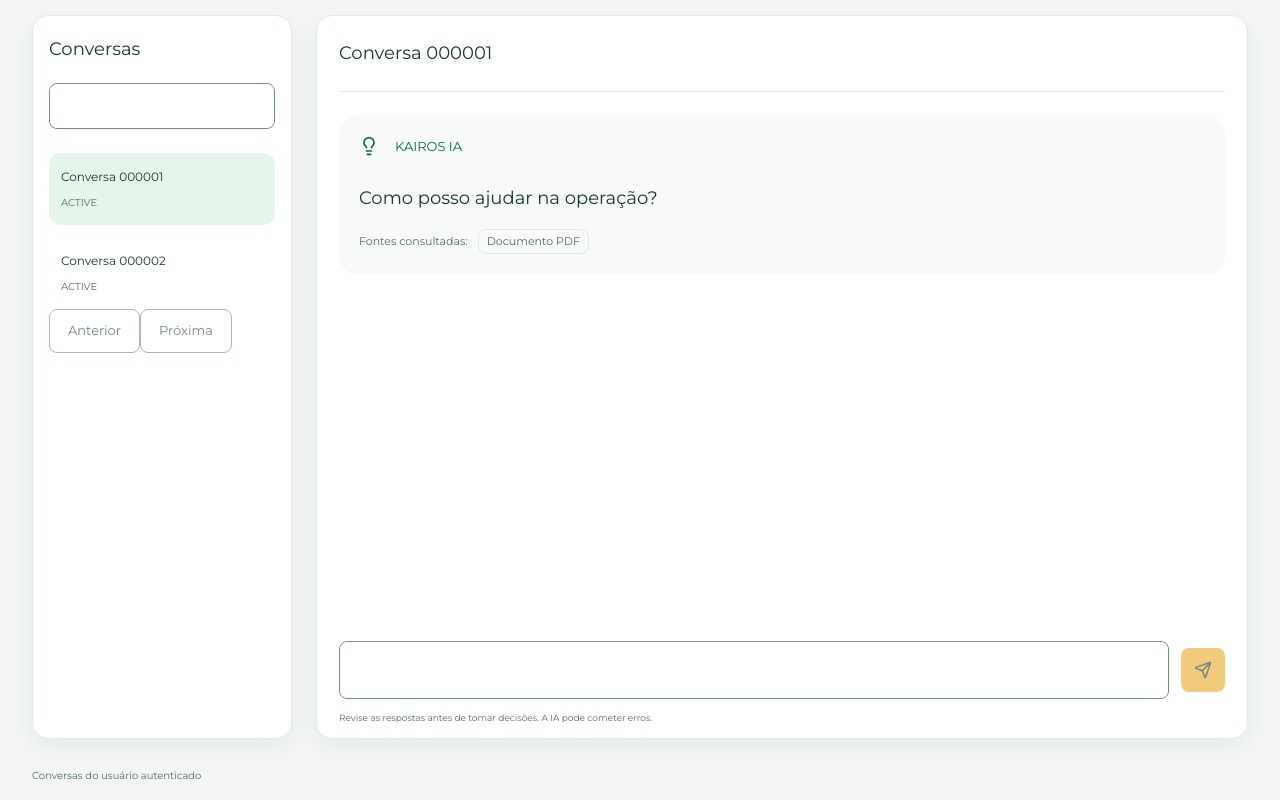
Test case: keeps sources attached to their own persisted reply when switching conversations
(page scrolled)
Check: the element named "Mensagens da conversa" is shown, box [339,116,1225,282]
Check: the list item "Documento PDF" is shown, box [478,229,589,254]
Type "Consulte o estoque" into the field named "Mensagem para KAIROS IA" at (754, 670), box [340,642,1168,698]
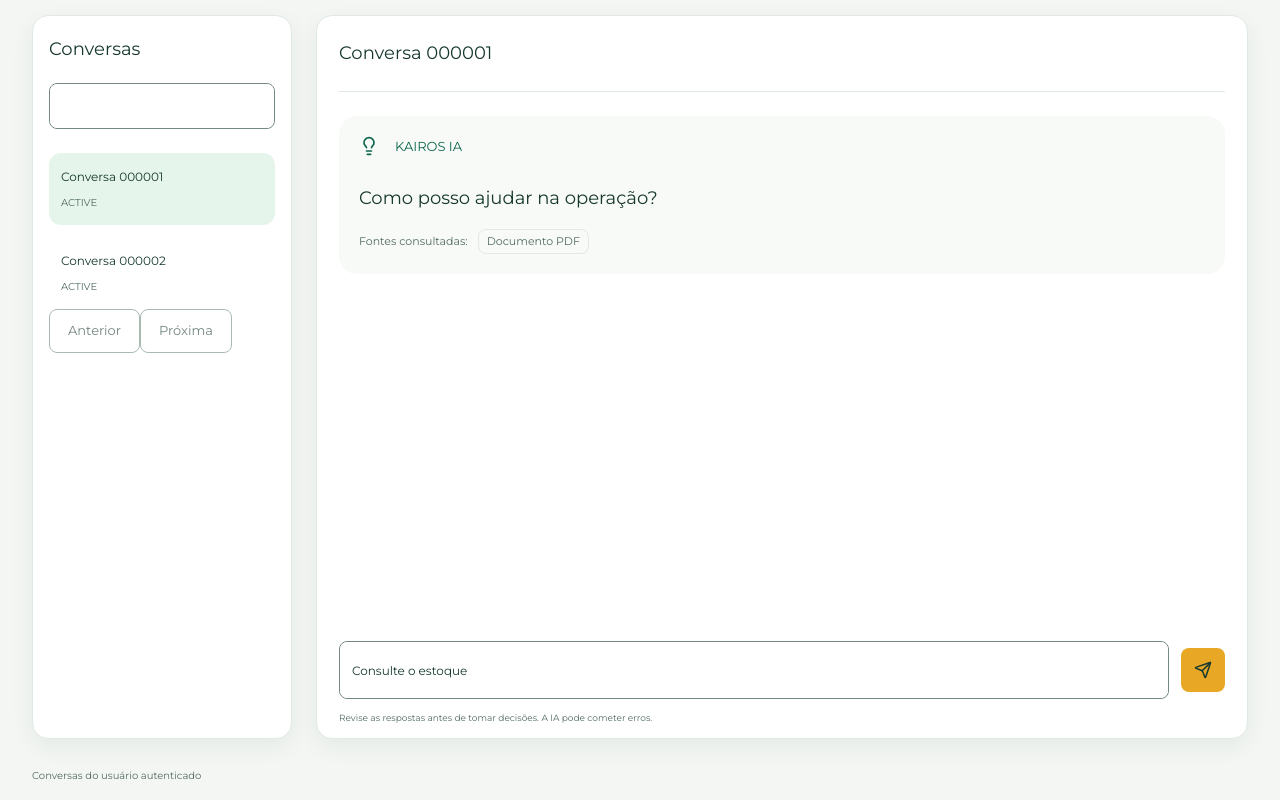
Click the button named "Enviar mensagem" at (1203, 670), box [1181,648,1225,692]
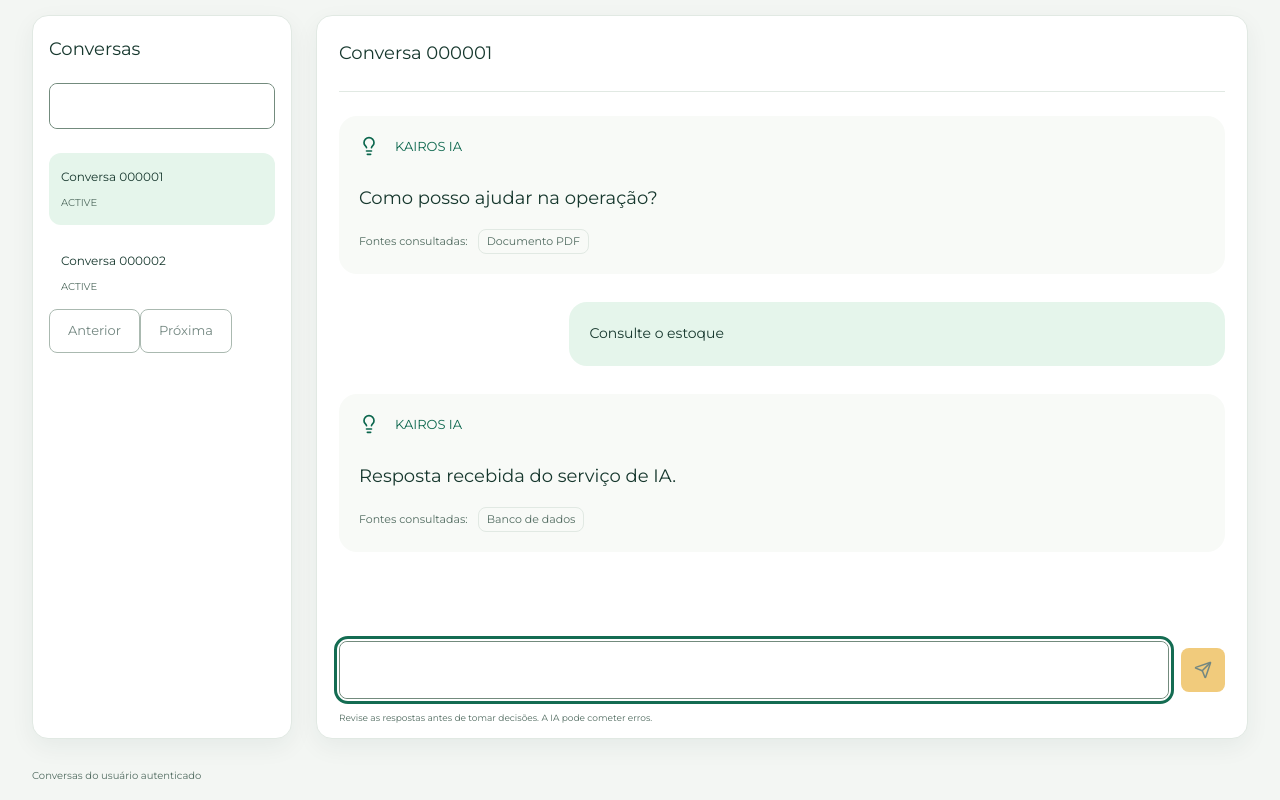
Check: the list item "Banco de dados" is shown, box [478,507,584,532]
Click the button "Conversa 000002 ACTIVE" at (162, 273), box [49,237,275,309]
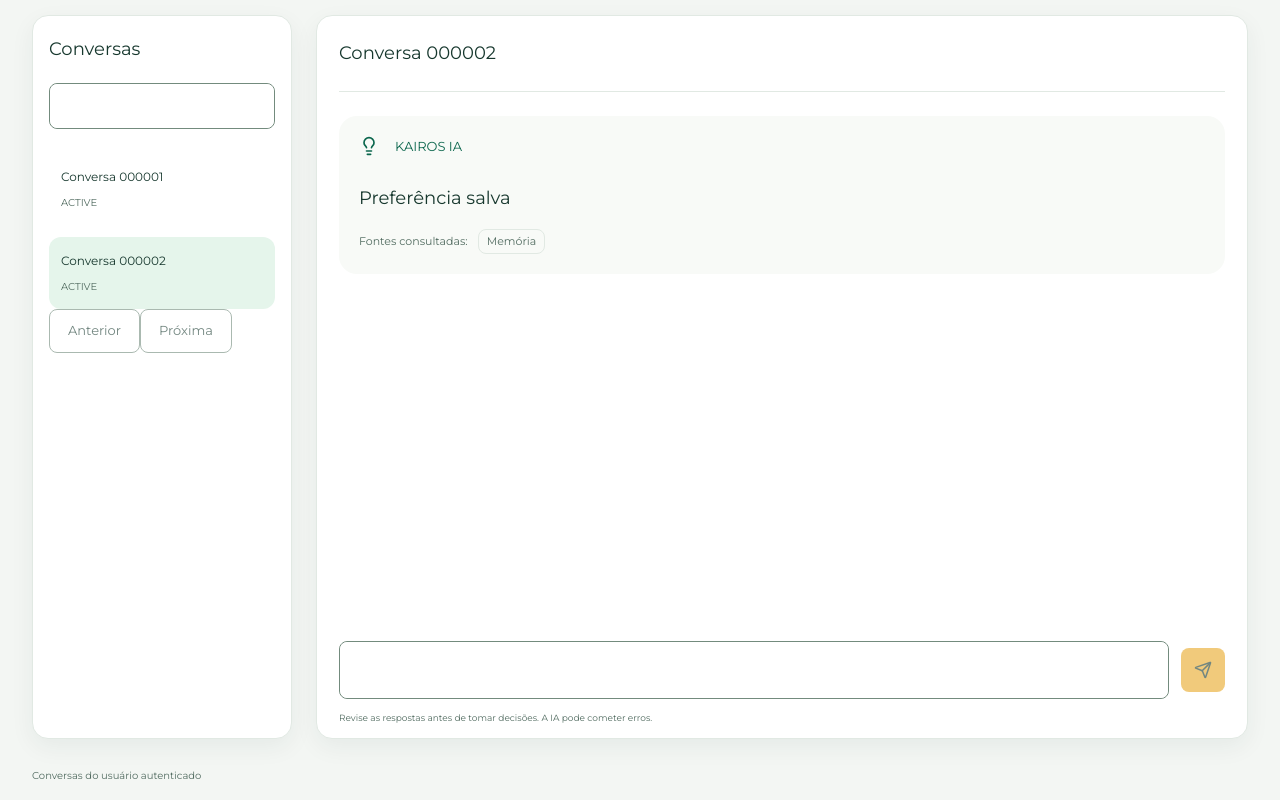
Check: the text "Preferência salva" is shown, box [359,187,511,209]
Check: the list item "Memória" is shown, box [478,229,545,254]
Check: the list item "Banco de dados" is gone
